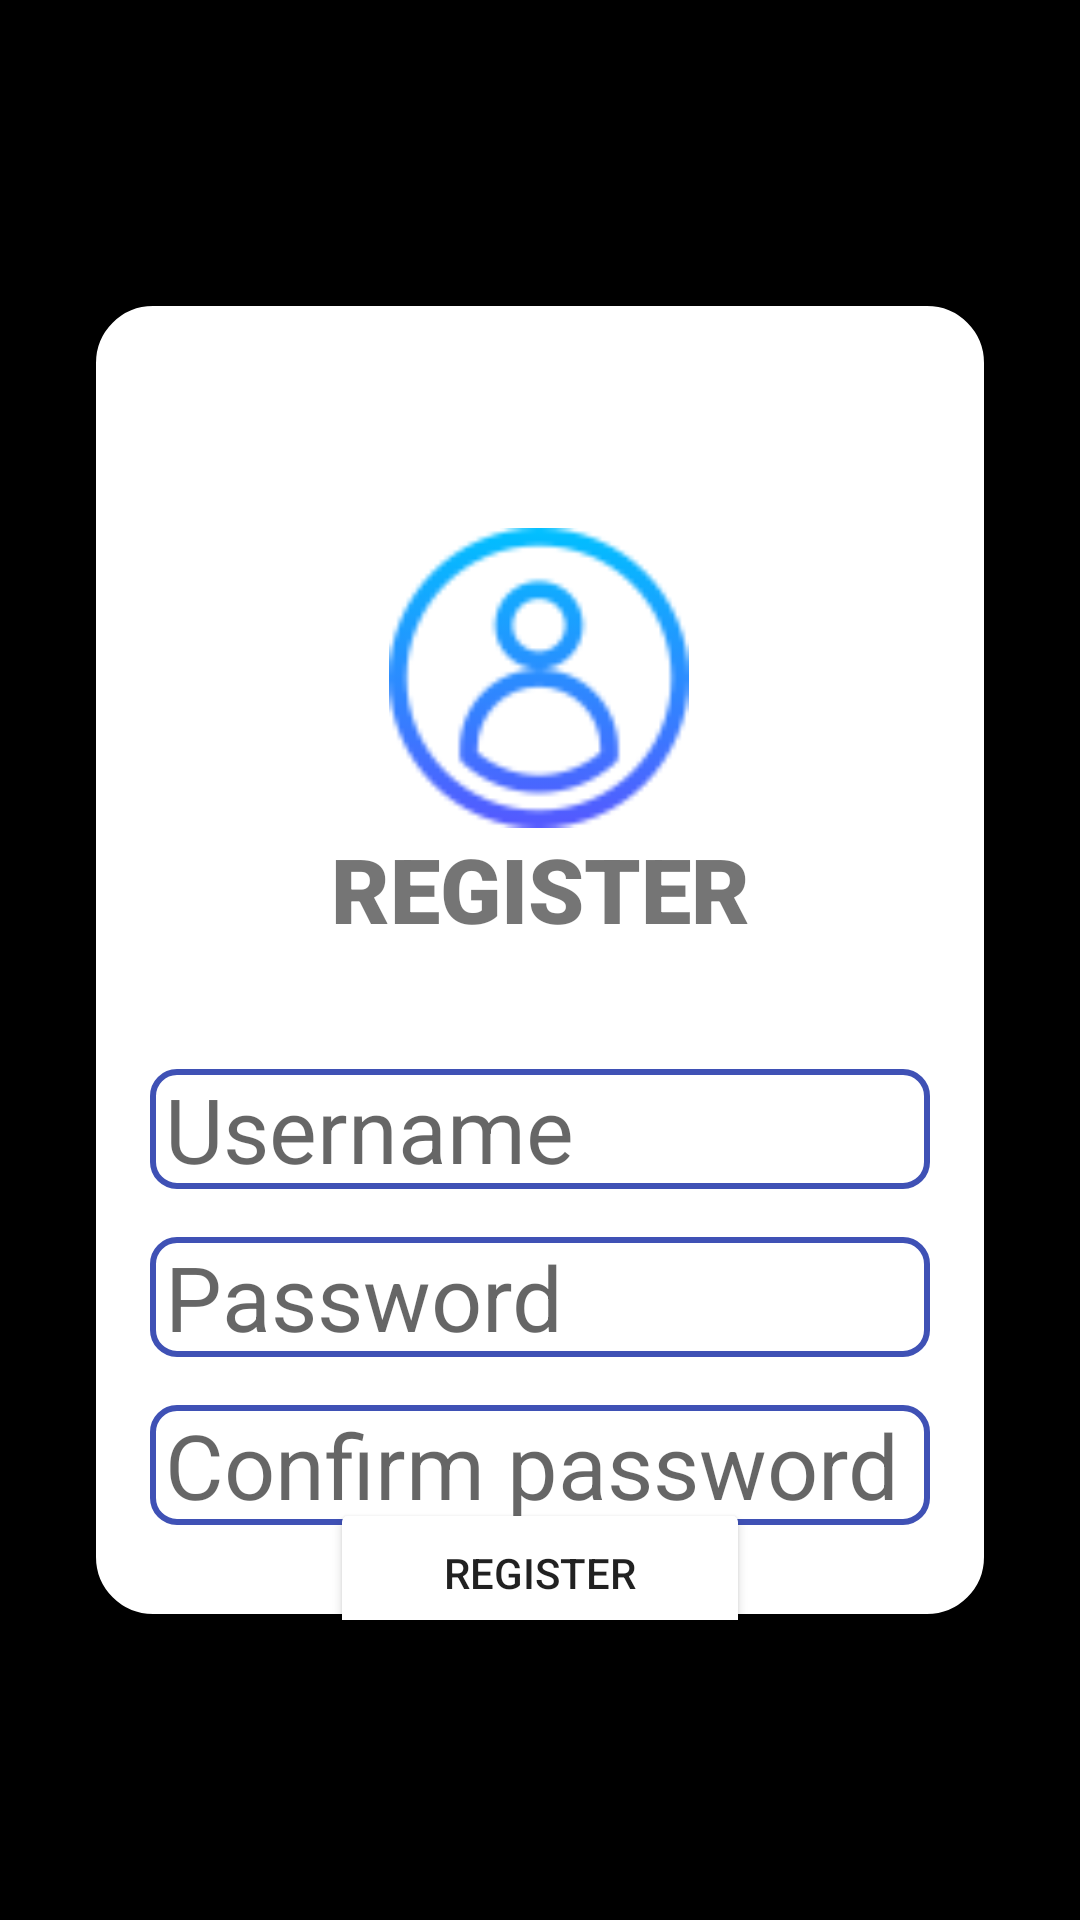

Icons on this 1080px x 1920px Android screen, each with the point to tap as point (x, y):
user: point (539, 678)
